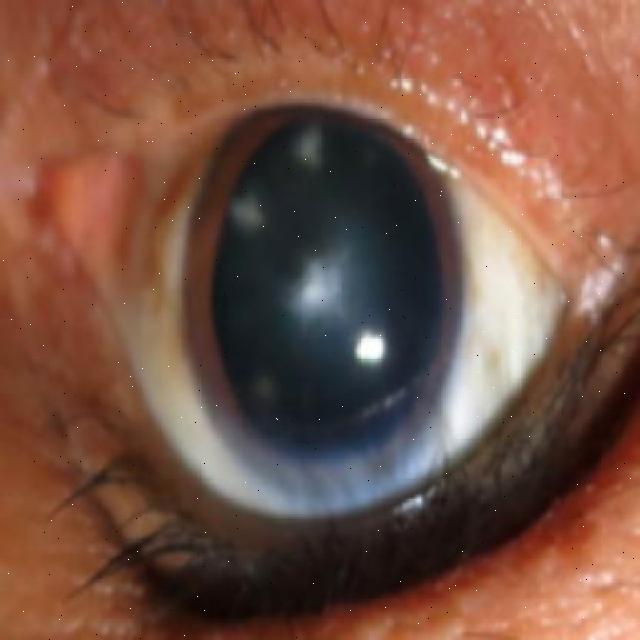Cataract: (177, 80, 462, 505)
